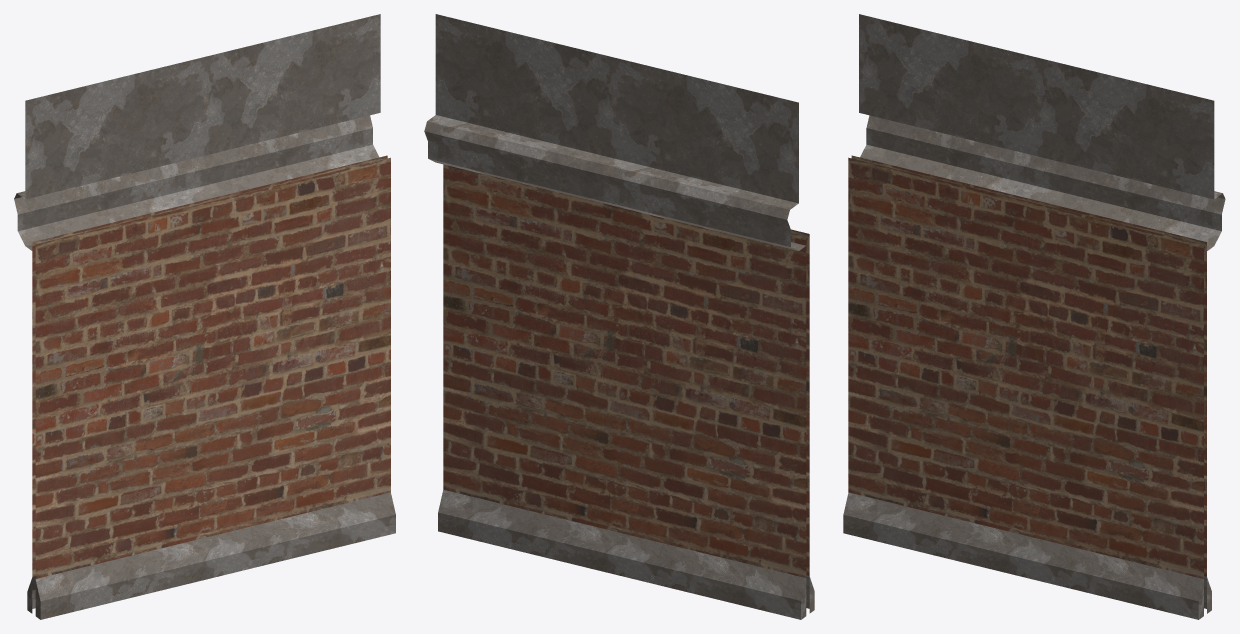
The model's file is Wall_Blank.fbx.
3 renders of one model, left to right at view 1: azimuth 30°, elevation 25°; view 2: azimuth 150°, elevation 25°; view 3: azimuth 330°, elevation 25°, orthographic. The views are drawn at different scales.
Parts seen in each view (by area): view 1: Wall_Blank; view 2: Wall_Blank; view 3: Wall_Blank.
Part boxes in pixels (bbox=[...]): Wall_Blank: bbox=[14, 14, 395, 619]; Wall_Blank: bbox=[424, 14, 814, 619]; Wall_Blank: bbox=[843, 14, 1225, 619].
Size of the model in its own units: 4 by 5.46 by 0.5198.
